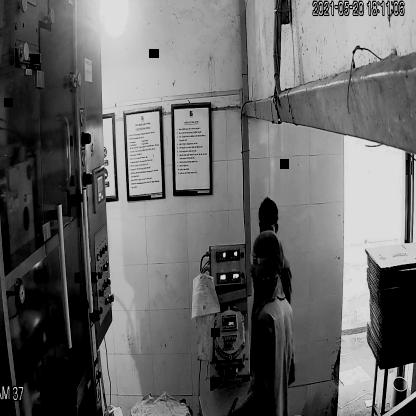goggles: (248, 250, 275, 270)
